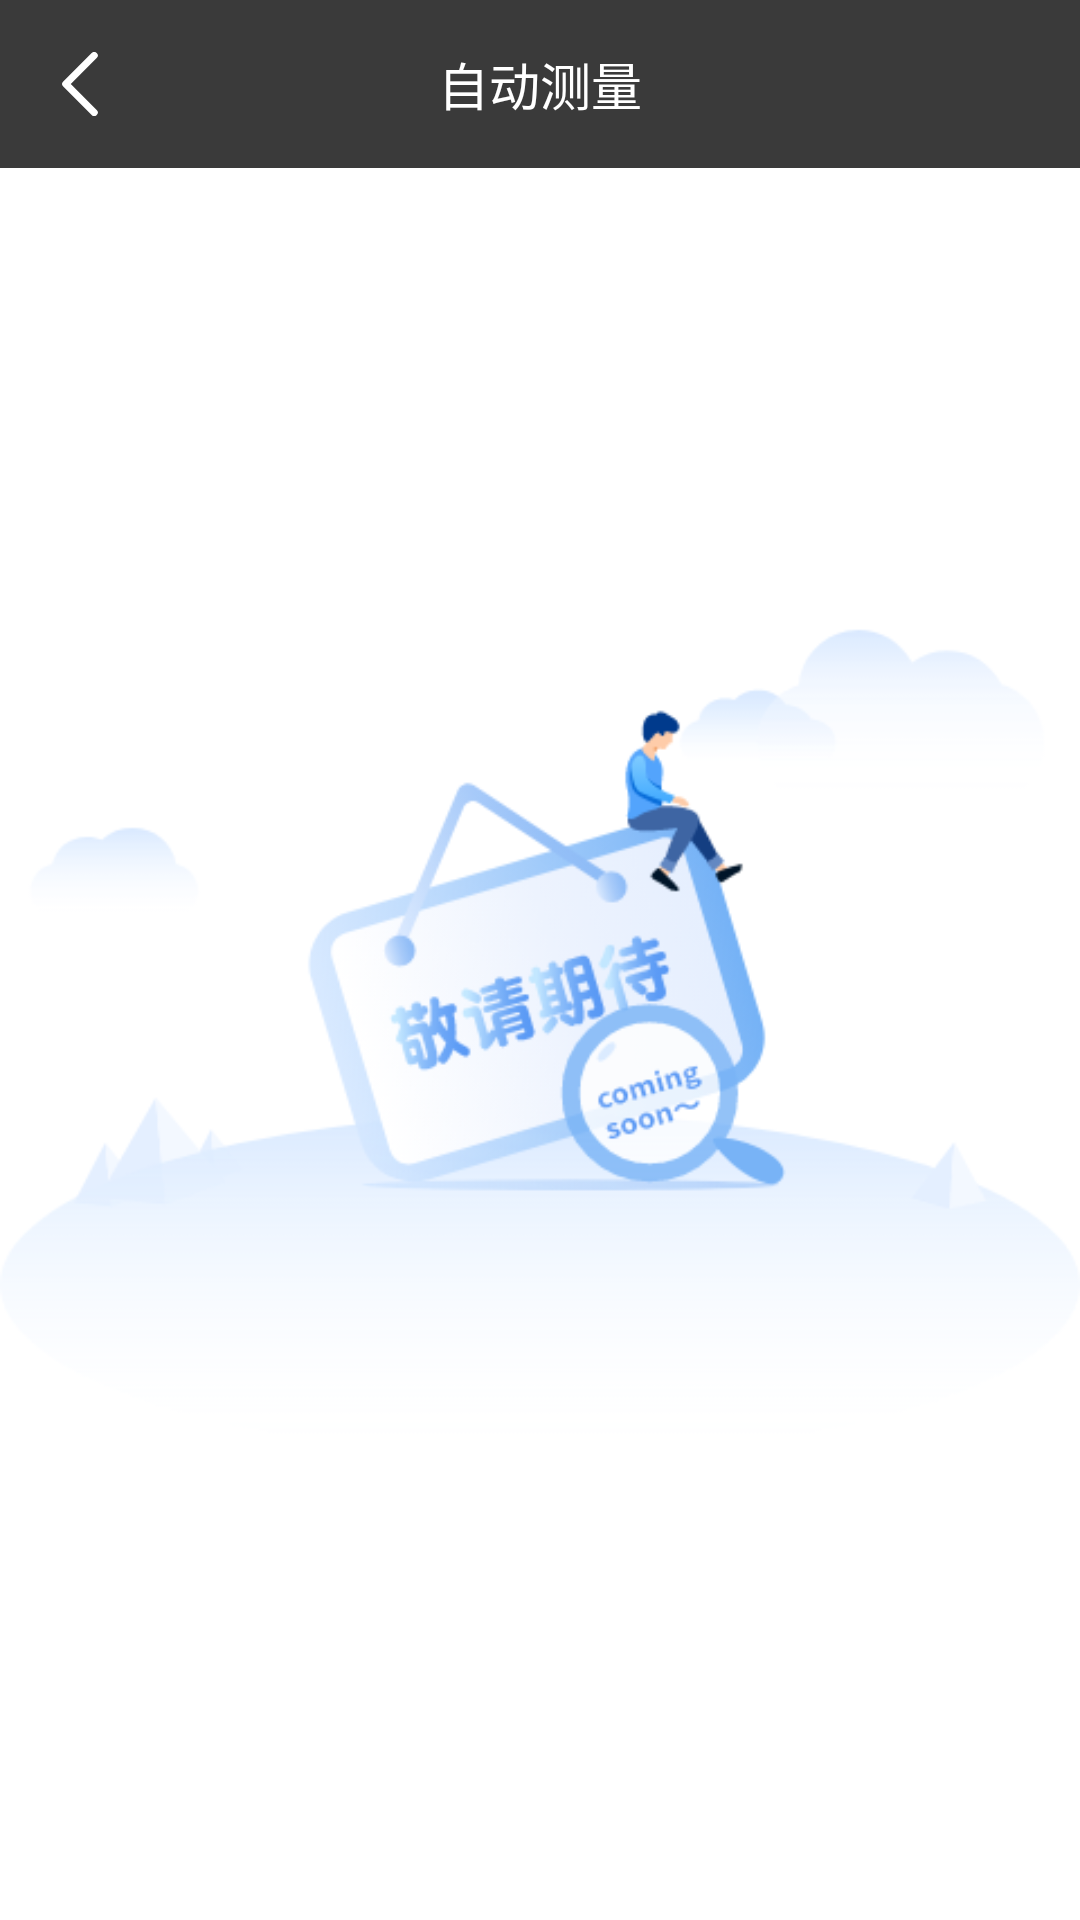

Screen size 1080w x 1920h. Icon name, then its center in pixels as [x,y]:
back: [80,84]
